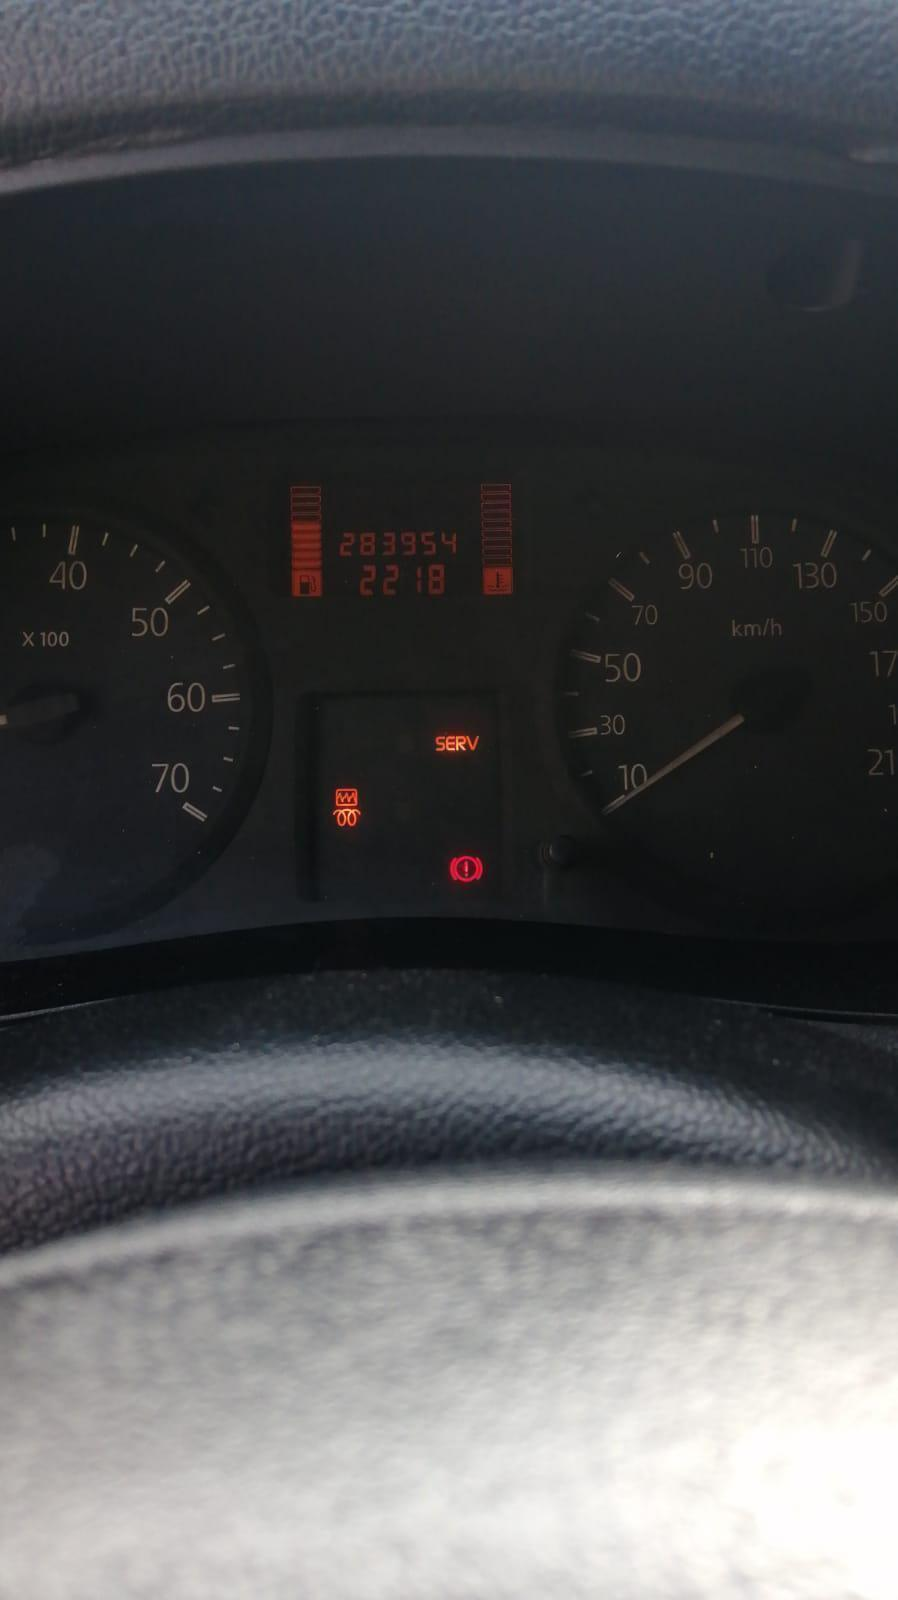1: (414, 565, 423, 593)
2: (358, 563, 377, 596), (381, 563, 399, 596), (339, 532, 355, 557)
3: (380, 532, 396, 556)
4: (440, 530, 458, 555)
5: (420, 530, 437, 555)
8: (426, 562, 445, 595), (359, 531, 376, 556)
9: (400, 532, 415, 556)
odometer: (262, 465, 542, 608)
